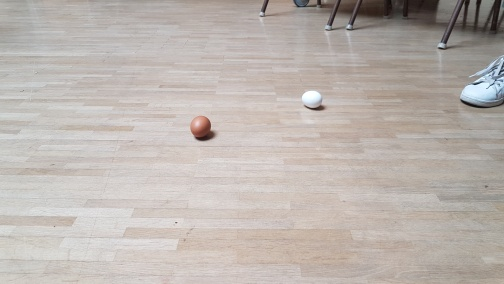egg: (188, 115, 212, 139), (300, 89, 324, 110)
